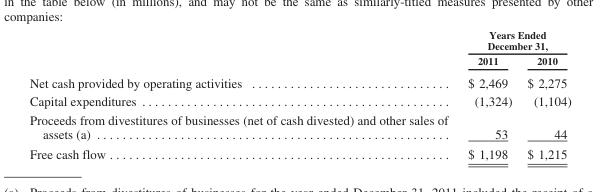table: (28, 28, 570, 161)
table column: (28, 28, 457, 161), (457, 28, 519, 161), (519, 28, 570, 161)
table column header: (28, 28, 570, 71)
table row: (28, 110, 570, 143), (28, 28, 570, 52), (28, 71, 570, 92), (28, 52, 570, 71), (28, 92, 570, 110), (28, 143, 570, 161)
table spanning cell: (457, 28, 570, 52)
